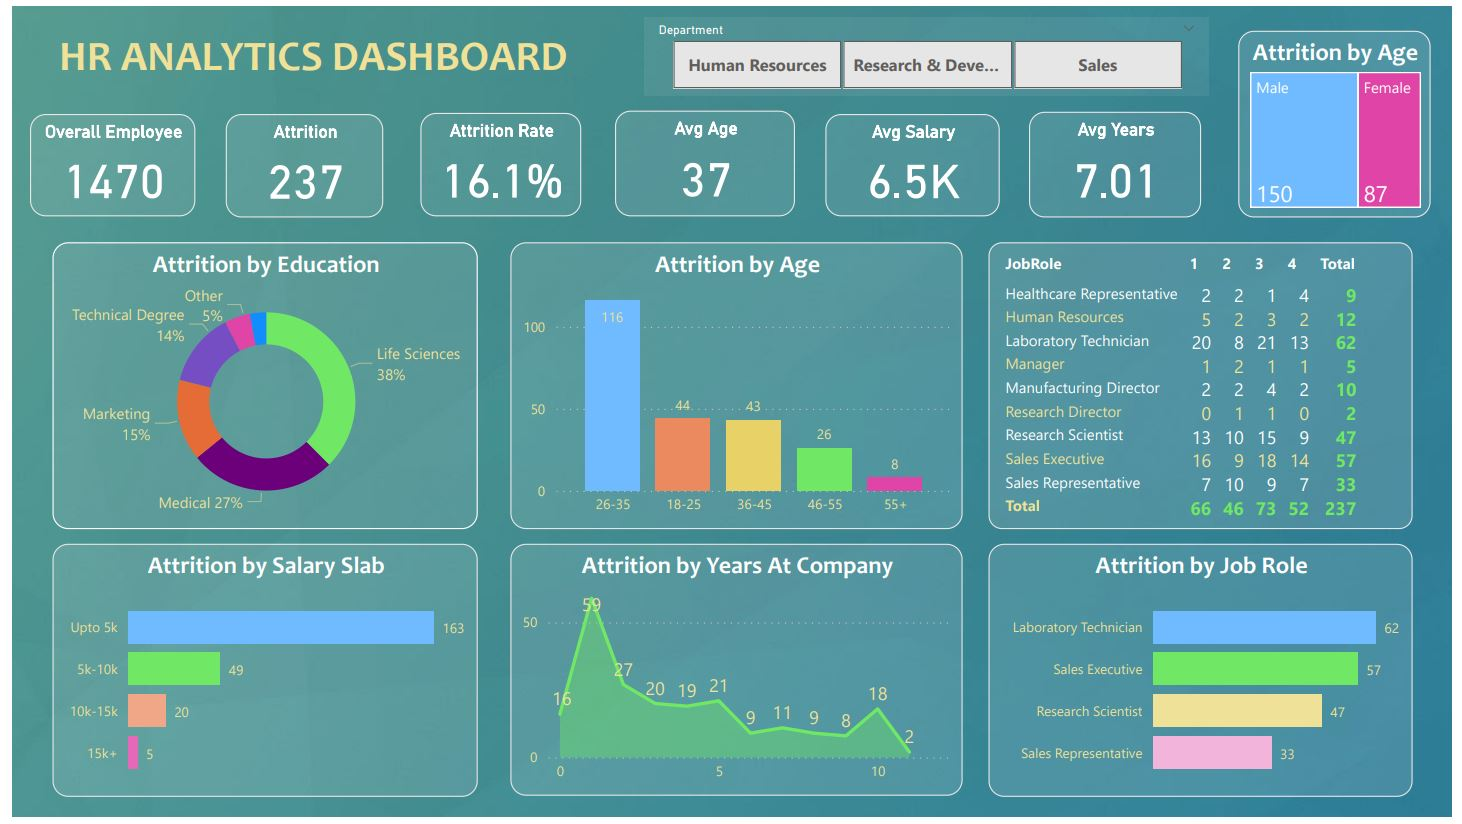

Layout of this report page (visuals, bound fields, positions):
{"tool":"powerbi","page":{"name":"Page 1","canvas":[1280,720],"ordinal":0},"visuals":[{"type":"card","title":"Overall Employee","fields":{"Values":["CountNonNull(HR_Analytics.EmpID)"]},"box":[15.7,96.4,147,90.4],"z":0},{"type":"card","title":"Attrition","fields":{"Values":["Sum(HR_Analytics.AttritionCount)"]},"box":[190.4,96.4,139.8,91.6],"z":1000},{"type":"card","title":"Attrition Rate","fields":{"Values":["HR_Analytics.AttritionRate"]},"box":[362.7,95.2,143.4,91.6],"z":2000},{"type":"card","title":"Avg Age","fields":{"Values":["Avg(HR_Analytics.Age)"]},"box":[536.1,92.8,160.2,94],"z":3000},{"type":"card","title":"Avg Salary","fields":{"Values":["Avg(HR_Analytics.MonthlyIncome)"]},"box":[722.9,96.4,155.4,90.4],"z":4000},{"type":"card","title":"Avg Years","fields":{"Values":["Avg(HR_Analytics.YearsAtCompany)"]},"box":[904.3,94.2,152.2,94.2],"z":5000},{"type":"donutChart","title":"Attrition by Education","fields":{"Category":["HR_Analytics.EducationField"],"Y":["Sum(HR_Analytics.AttritionCount)"]},"box":[36.2,210.1,378.3,255.1],"z":6000},{"type":"columnChart","title":"Attrition by Age","fields":{"Category":["HR_Analytics.AgeGroup"],"Y":["Sum(HR_Analytics.AttritionCount)"]},"box":[443.4,209.6,401.2,255.4],"z":7000},{"type":"pivotTable","fields":{"Columns":["HR_Analytics.JobSatisfaction"],"Rows":["HR_Analytics.JobRole"],"Values":["Sum(HR_Analytics.AttritionCount)"]},"box":[868.1,210.1,376.8,255.1],"z":8000},{"type":"clusteredBarChart","title":"Attrition by Salary Slab","fields":{"Category":["HR_Analytics.SalarySlab"],"Y":["Sum(HR_Analytics.AttritionCount)"]},"box":[36.2,478.3,378.3,224.6],"z":9000},{"type":"clusteredBarChart","title":"Attrition by Job Role","fields":{"Category":["HR_Analytics.JobRole"],"Y":["Sum(HR_Analytics.AttritionCount)"]},"box":[868.1,478.3,376.8,224.6],"z":10000},{"type":"areaChart","title":"Attrition by Years At Company","fields":{"Category":["HR_Analytics.YearsAtCompany"],"Y":["Sum(HR_Analytics.AttritionCount)"]},"box":[443.4,478.3,401.2,224.1],"z":11000},{"type":"treemap","title":"Attrition by Age","fields":{"Group":["HR_Analytics.Gender"],"Values":["Sum(HR_Analytics.AttritionCount)"]},"box":[1089.9,21.7,171,166.7],"z":13000},{"type":"slicer","fields":{"Values":["HR_Analytics.Department"]},"box":[562.3,10.1,501.4,69.6],"z":14000},{"type":"textbox","box":[15.9,15.9,504.3,63.8],"z":15000}]}

Visuals, with their boxes in screenshot pixels (x1, y1, x2, y2), scaled from the page's 1280x720 canvas onto the 1462x824 screenshot:
"Overall Employee" card: box=[18, 110, 186, 214]
"Attrition" card: box=[217, 110, 377, 215]
"Attrition Rate" card: box=[414, 109, 578, 214]
"Avg Age" card: box=[612, 106, 795, 214]
"Avg Salary" card: box=[826, 110, 1003, 214]
"Avg Years" card: box=[1033, 108, 1207, 216]
"Attrition by Education" donutChart: box=[41, 240, 473, 532]
"Attrition by Age" columnChart: box=[506, 240, 965, 532]
pivotTable - HR_Analytics.JobSatisfaction x HR_Analytics.JobRole: box=[992, 240, 1422, 532]
"Attrition by Salary Slab" clusteredBarChart: box=[41, 547, 473, 804]
"Attrition by Job Role" clusteredBarChart: box=[992, 547, 1422, 804]
"Attrition by Years At Company" areaChart: box=[506, 547, 965, 804]
"Attrition by Age" treemap: box=[1245, 25, 1440, 216]
slicer - HR_Analytics.Department: box=[642, 12, 1215, 91]
textbox: box=[18, 18, 594, 91]
